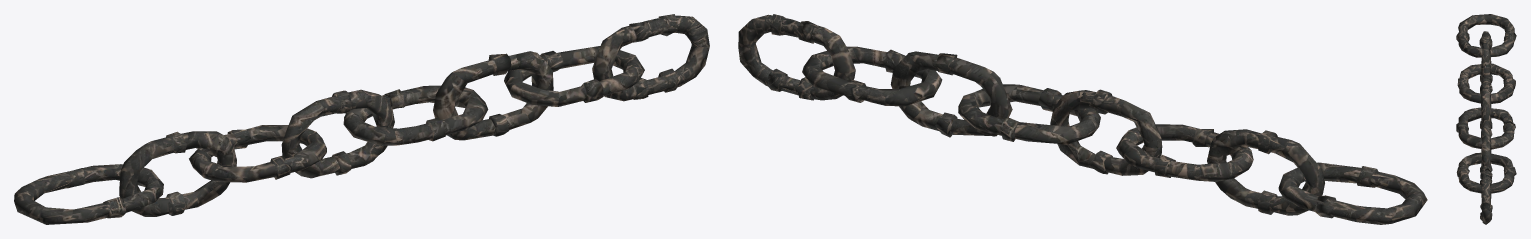
File: chain.opt.glb
3 renders of one model, left to right at view 1: azimuth 30°, elevation 25°; view 2: azimuth 150°, elevation 25°; view 3: azimuth 270°, elevation 25°, orthographic. The views are drawn at different scales.
Parts seen in each view (by area): view 1: chain; view 2: chain; view 3: chain.
Part boxes in pixels (x1,y1,x2,y2): chain: (14, 14, 709, 224); chain: (738, 14, 1427, 224); chain: (1456, 14, 1516, 224).
Bounding box in the file's own units: 1 × 0.1147 × 0.1313.
1 material, 1 textured.
